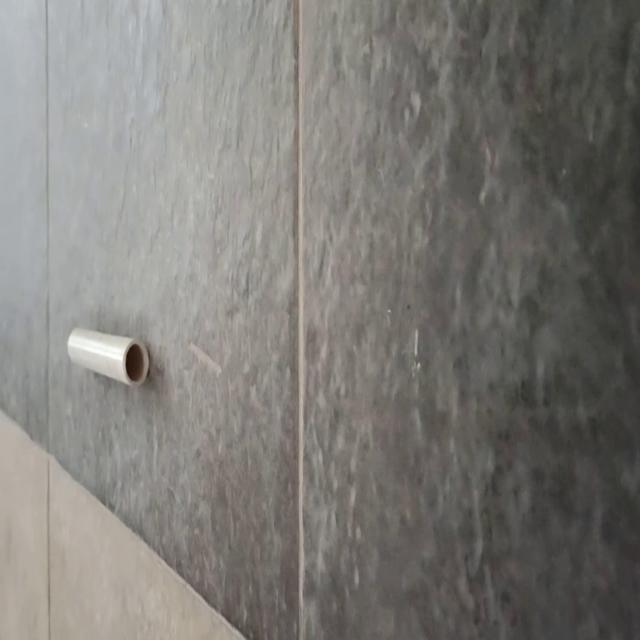Cube: (66, 326, 150, 388)
